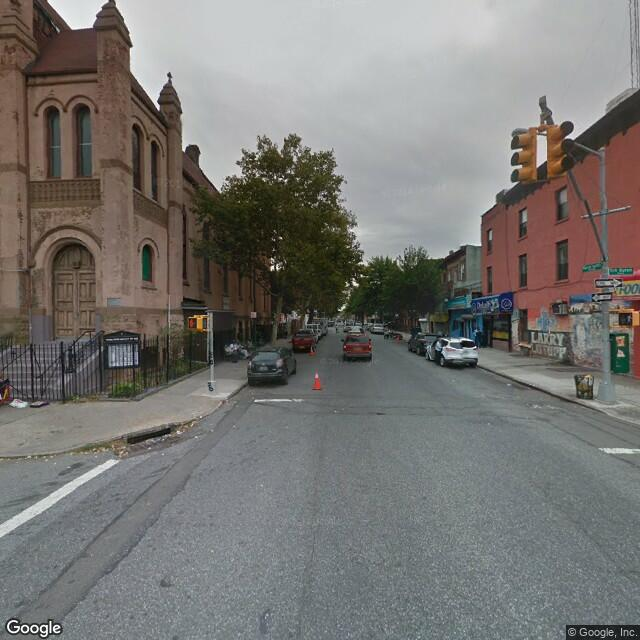litter: (27, 452, 55, 466), (192, 410, 208, 422), (172, 425, 184, 438)
